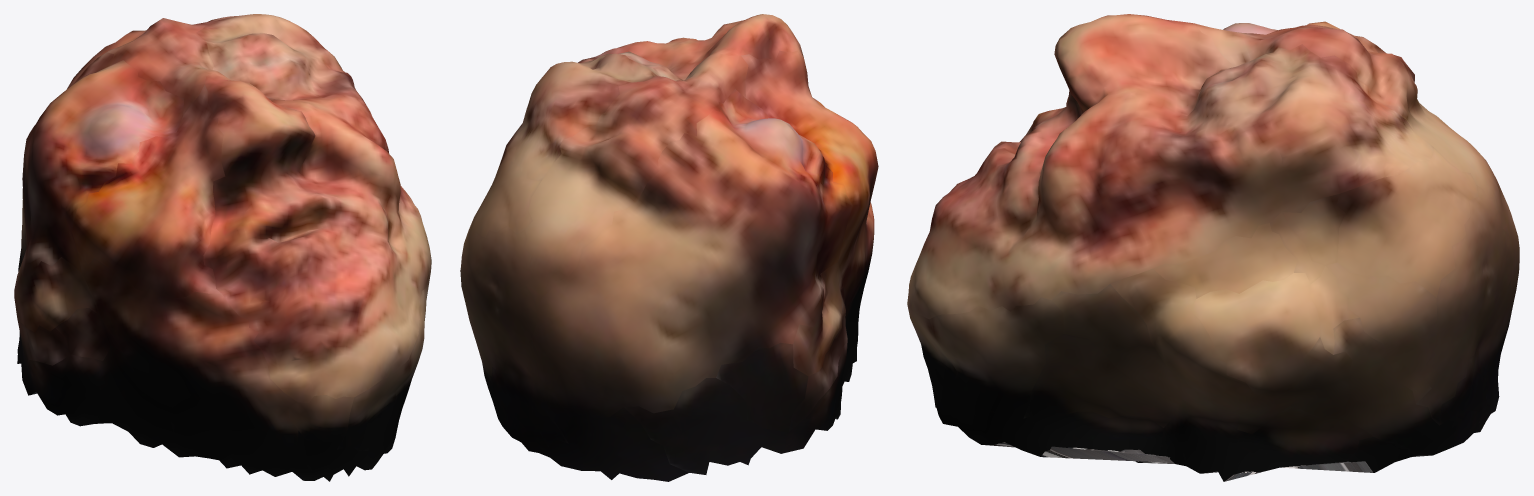
File: Head.fbx
The picture shows the model from 3 angles, left to right: view 1: azimuth 30°, elevation 25°; view 2: azimuth 150°, elevation 25°; view 3: azimuth 270°, elevation 25°; orthographic projection. The views are drawn at different scales.
Visible parts, largest first — view 1: 3DModel; view 2: 3DModel; view 3: 3DModel.
Part boxes in pixels (x1,y1,x2,y2): 3DModel: [14, 14, 431, 481]; 3DModel: [460, 14, 878, 481]; 3DModel: [907, 14, 1519, 481].
Bounding box in the file's own units: 12.18 × 11.23 × 16.34.
1 material, 1 textured.
